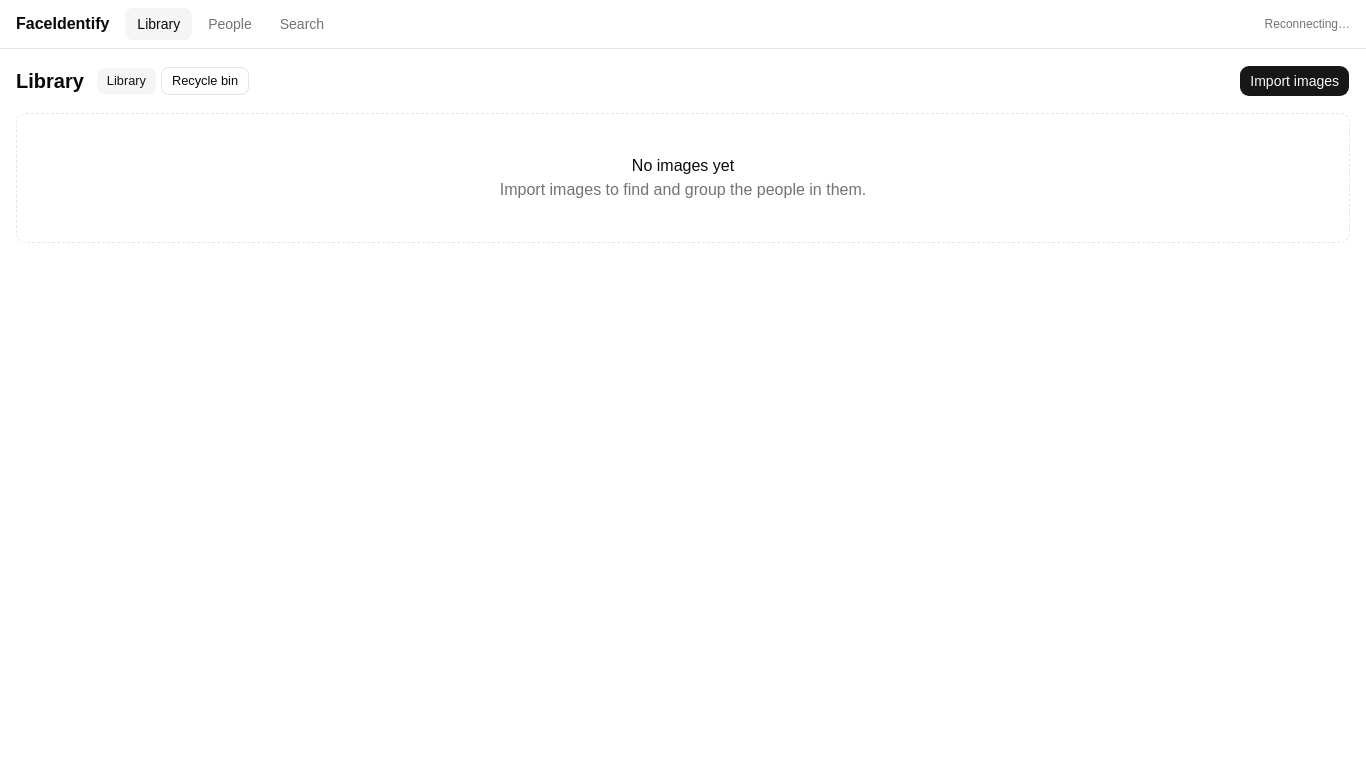
it: importing › deleting an image in the recycle bin for good › asks first, can be cancelled, and then removes the image
Click the button "Recycle bin": (205, 81) [161,67,249,95]
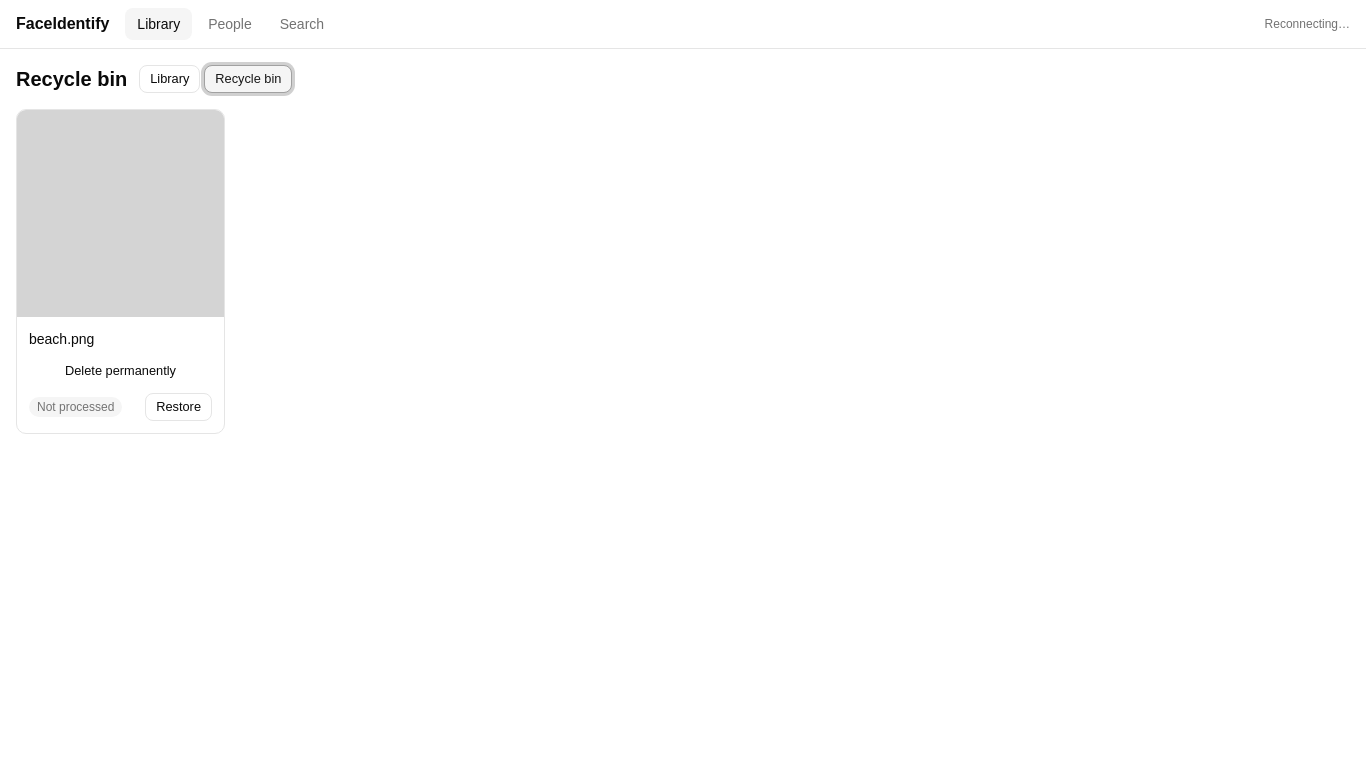
Click the button with aria-label "Delete beach.png permanently": (120, 371) [29,357,212,385]
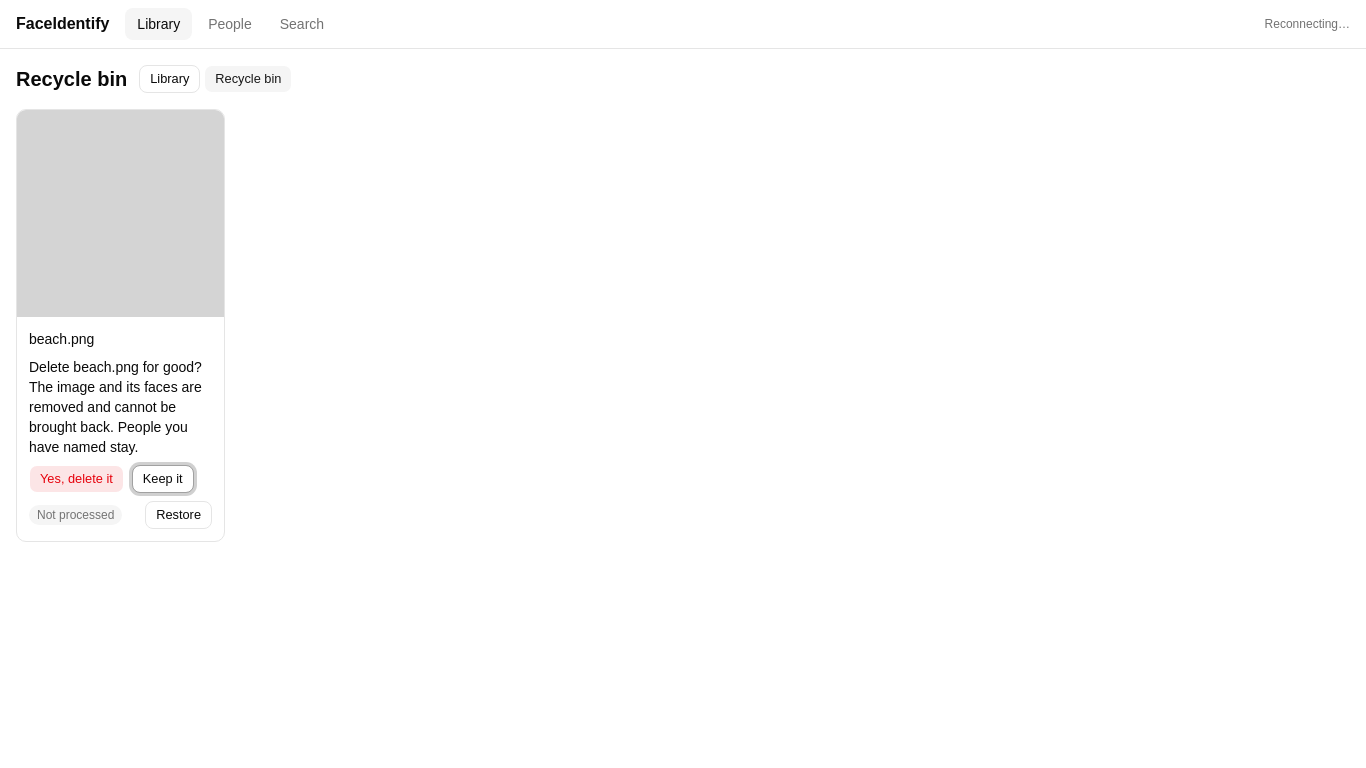
Expected: the dialog shows "cannot be brought back", [29,359,202,455]
Click the button "Keep it": (163, 479) [132,465,194,493]
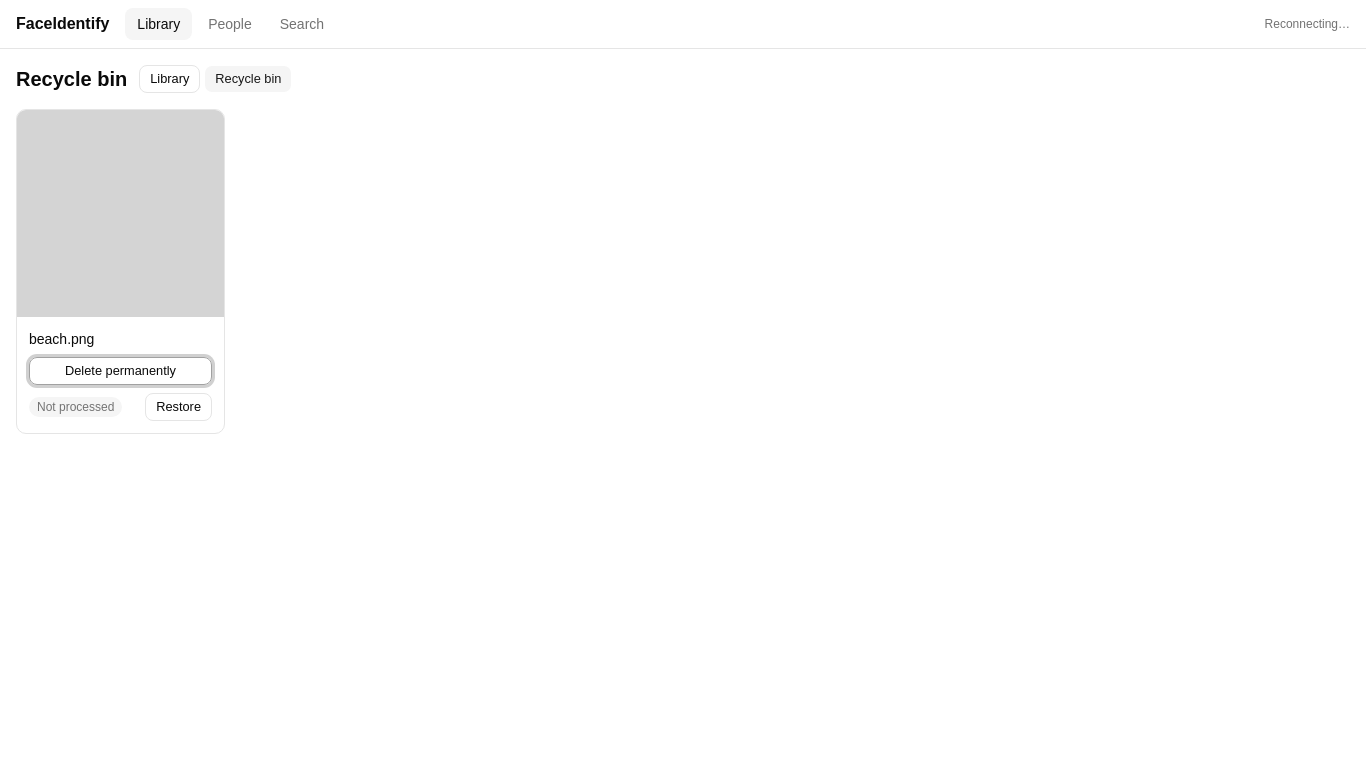
Expected: the dialog is gone
Click the button with aria-label "Delete beach.png permanently": (120, 371) [29,357,212,385]
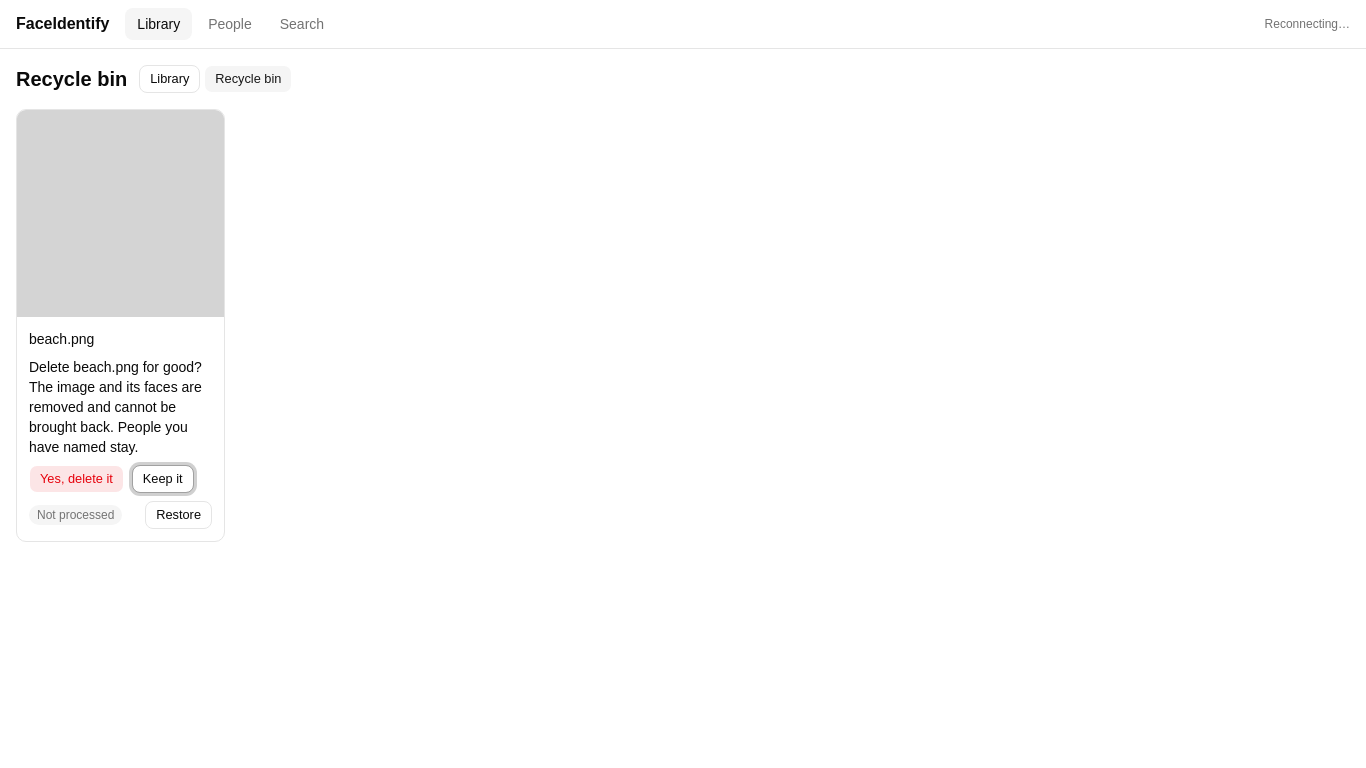
Click the button "Yes, delete it": (76, 479) [29,465,124,493]
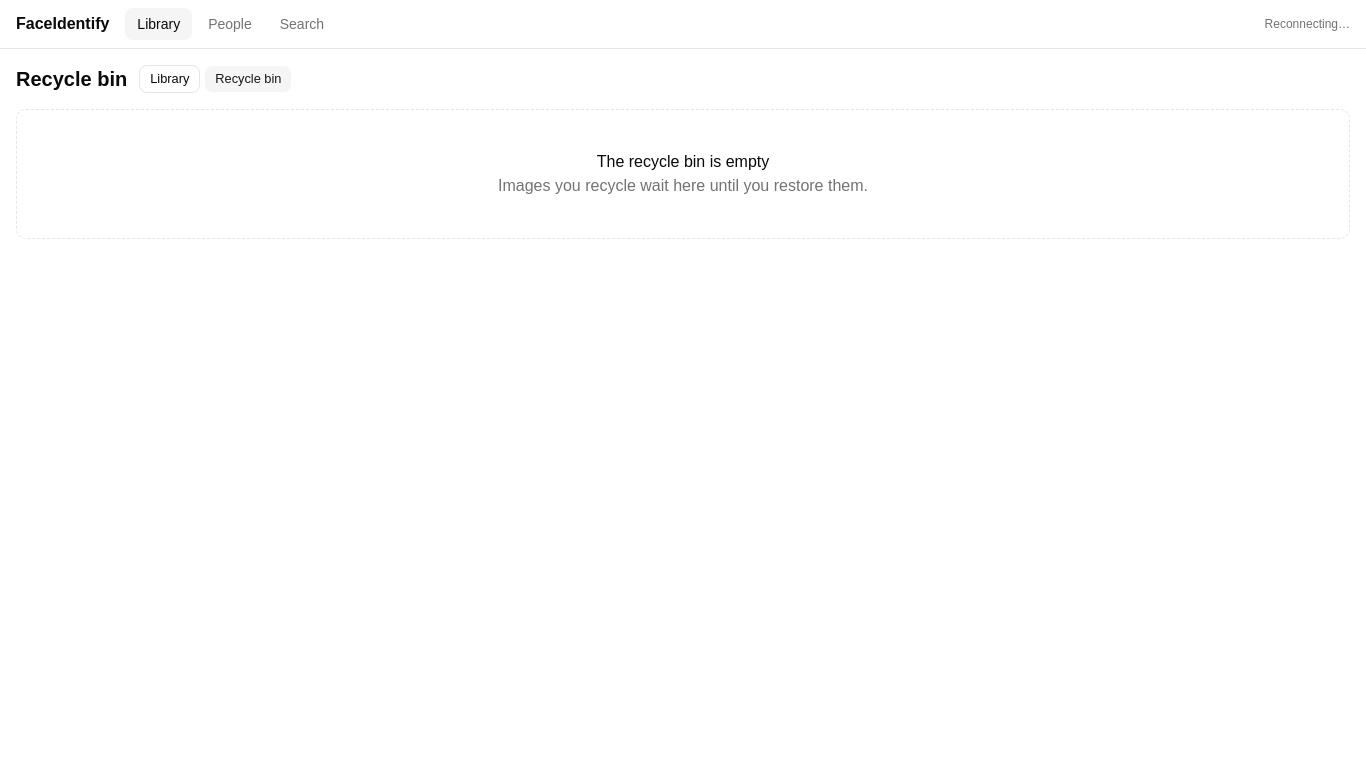
Expected: the text "The recycle bin is empty" is shown, [597,153,769,170]
